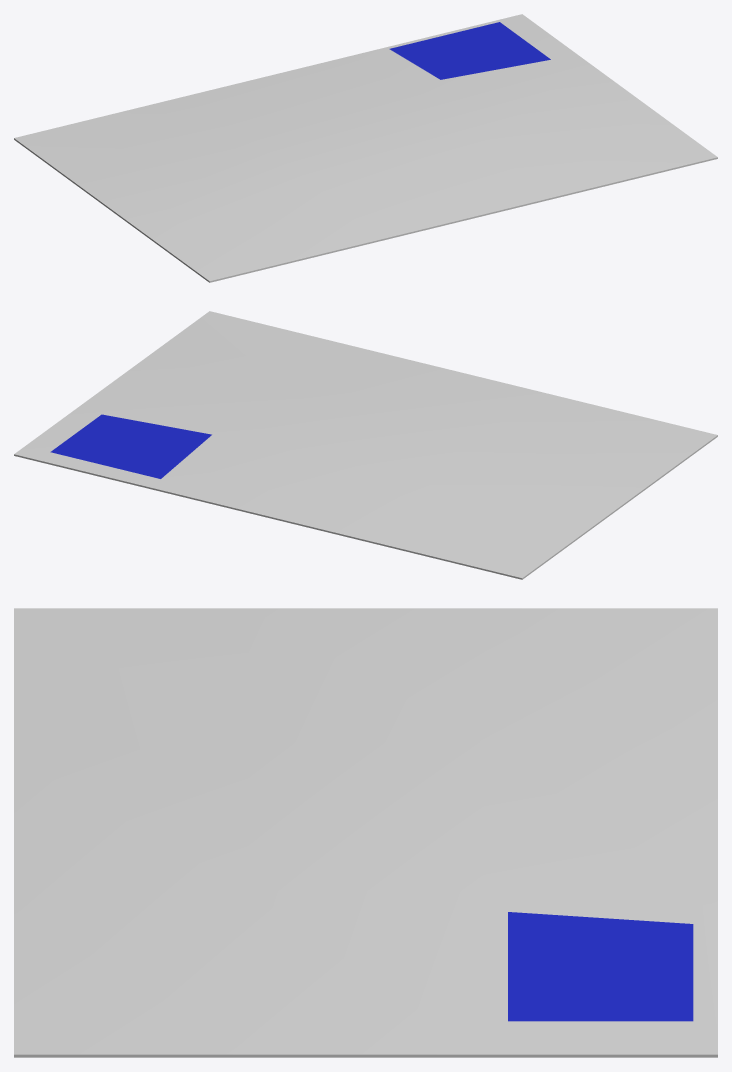
Rendered from Letter1.FBX.
3 views of the same model, one above another, from view 1: azimuth 30°, elevation 25°; view 2: azimuth 150°, elevation 25°; view 3: azimuth 270°, elevation 25° (orthographic). The views are drawn at different scales.
Parts seen in each view (by area): view 1: Letter, Stamp; view 2: Letter, Stamp; view 3: Letter, Stamp.
Boxes of the visible parts, x1=… form: Letter: x1=14, y1=14, x2=717, y2=282; Stamp: x1=389, y1=22, x2=550, y2=79; Letter: x1=14, y1=311, x2=717, y2=579; Stamp: x1=50, y1=414, x2=211, y2=478; Letter: x1=14, y1=608, x2=717, y2=1057; Stamp: x1=508, y1=912, x2=693, y2=1021.
Bounding box in the file's own units: 11.81 × 0.629 × 7.87.
